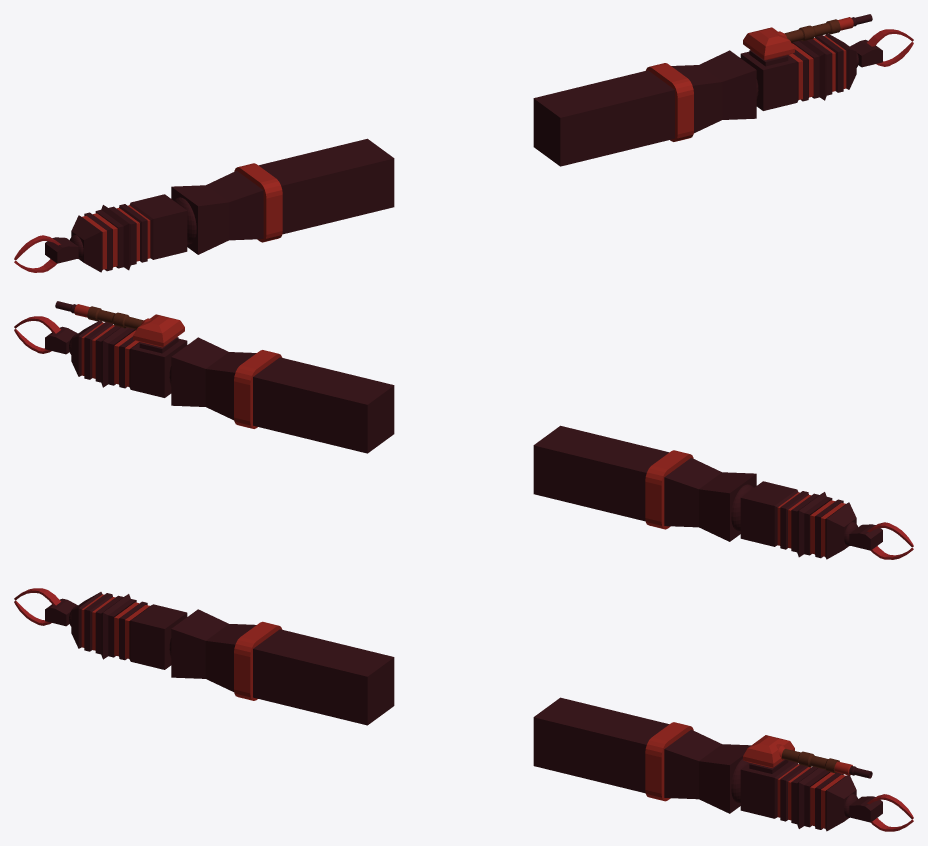
File: fpsrobotrig.fbx
3 renders of one model, top to bottom at view 1: azimuth 30°, elevation 25°; view 2: azimuth 150°, elevation 25°; view 3: azimuth 330°, elevation 25°, orthographic.
Visible parts, largest first — view 1: Cube.005, Sphere, Sphere.001, Sphere.002, Sphere.003, Cylinder, Cube.002, Cube.003; view 2: Cube.005, Sphere, Sphere.001, Sphere.002, Sphere.003, Cylinder, Cube.002, Cube.003; view 3: Sphere, Cube.005, Sphere.002, Sphere.001, Sphere.003, Cylinder, Cube.003, Cube.002.
Boxes of the visible parts, x1,y1,x2,y2 form: Cube.005: (533,50,758,166); Sphere: (171,138,394,254); Sphere.001: (70,194,187,272); Sphere.002: (740,33,858,110); Sphere.003: (743,27,794,60); Cylinder: (784,19,840,42); Cube.002: (45,237,78,263); Cube.003: (850,39,882,67); Cube.005: (169,337,394,453); Sphere: (533,425,756,541); Sphere.001: (740,481,857,559); Sphere.002: (69,320,187,397); Sphere.003: (133,314,184,347); Cylinder: (87,306,143,329); Cube.002: (849,524,882,550); Cube.003: (45,326,77,354); Sphere: (169,609,394,725); Cube.005: (533,697,750,813); Sphere.002: (740,759,857,831); Sphere.001: (69,592,187,669); Sphere.003: (743,735,794,767); Cylinder: (782,749,839,773); Cube.003: (849,796,882,822); Cube.002: (45,598,77,626).
Bounding box in the file's own units: 9.16 × 0.7212 × 0.574.
